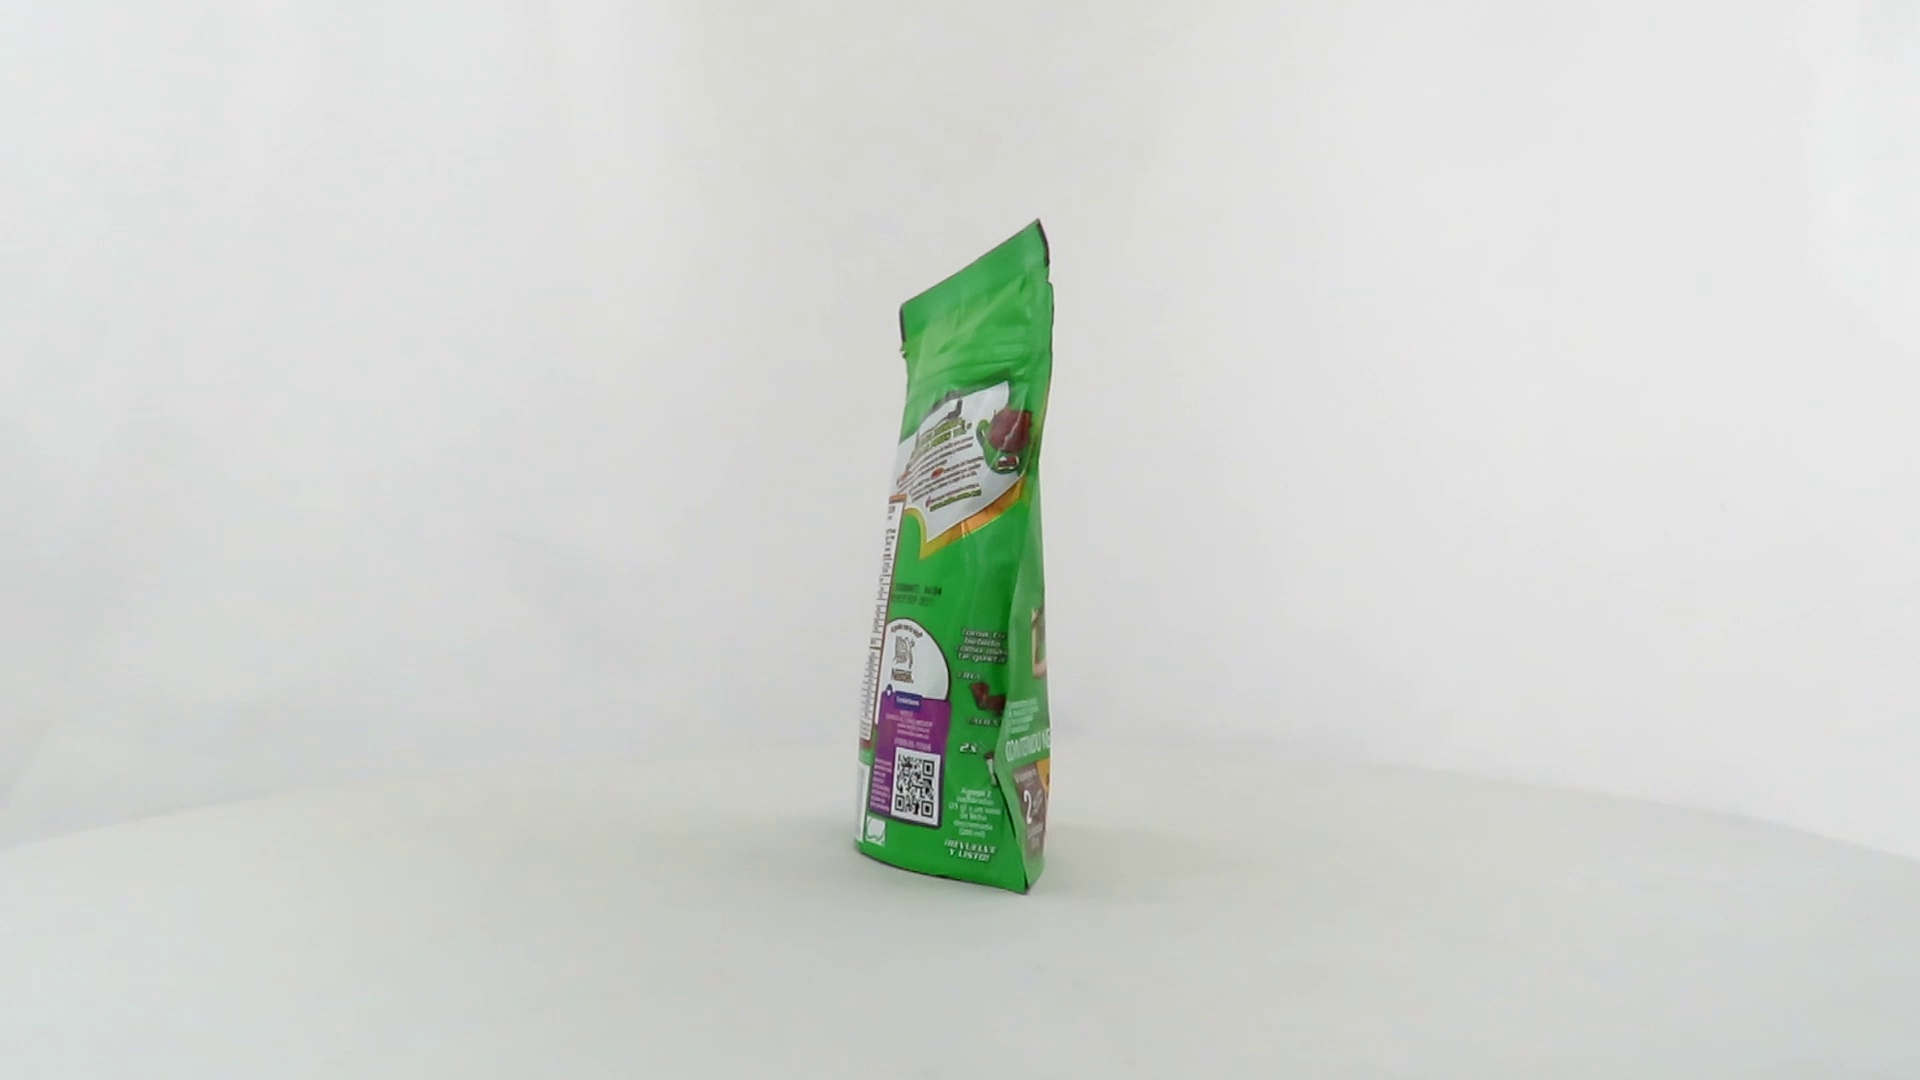COL0170203DYP10000: (847, 214, 1062, 902)
